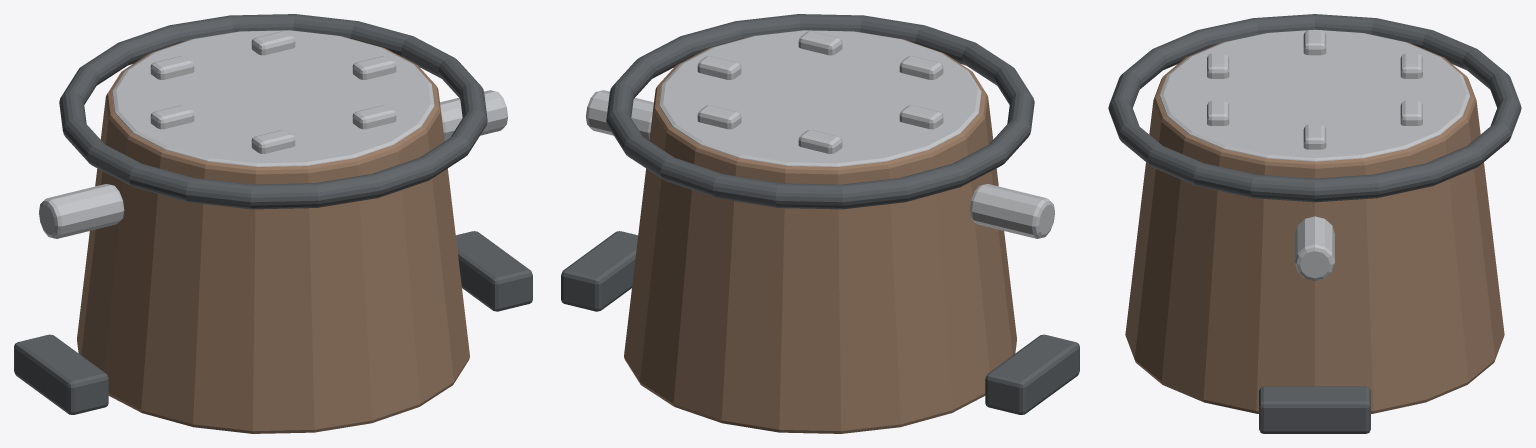
The model's file is slag_pot.fbx.
The picture shows the model from 3 angles, left to right: view 1: azimuth 30°, elevation 25°; view 2: azimuth 150°, elevation 25°; view 3: azimuth 270°, elevation 25°; orthographic projection. The views are drawn at different scales.
Parts seen in each view (by area): view 1: slag_pot; view 2: slag_pot; view 3: slag_pot.
Boxes of the visible parts, box(x1,y1,x2,y2) form: slag_pot: box(14, 14, 532, 433); slag_pot: box(561, 14, 1079, 433); slag_pot: box(1108, 14, 1521, 433).
Size of the model in its own units: 2.3 by 1.26 by 1.85.
